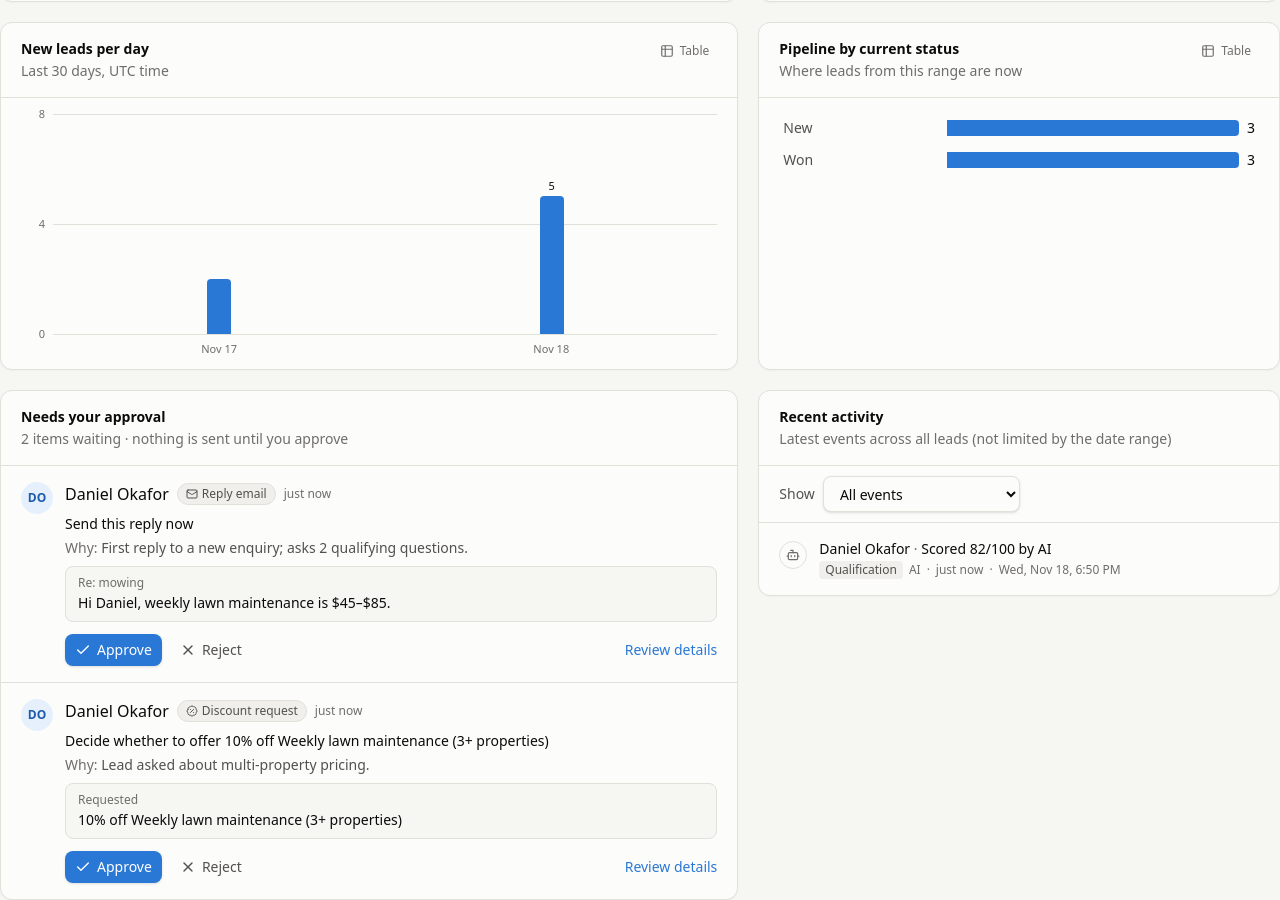
Test: Recent activity › labels each event with its type and filters by category
(page scrolled)
Check: the text "Scored 82/100 by AI" is shown, box top-left (921, 539), bottom-right (1051, 558)
Check: the text "Qualification" is shown, box top-left (819, 561), bottom-right (903, 579)
Select "AI decision events" in the dropdown labelled "Show" at (921, 494), box top-left (823, 476), bottom-right (1020, 512)
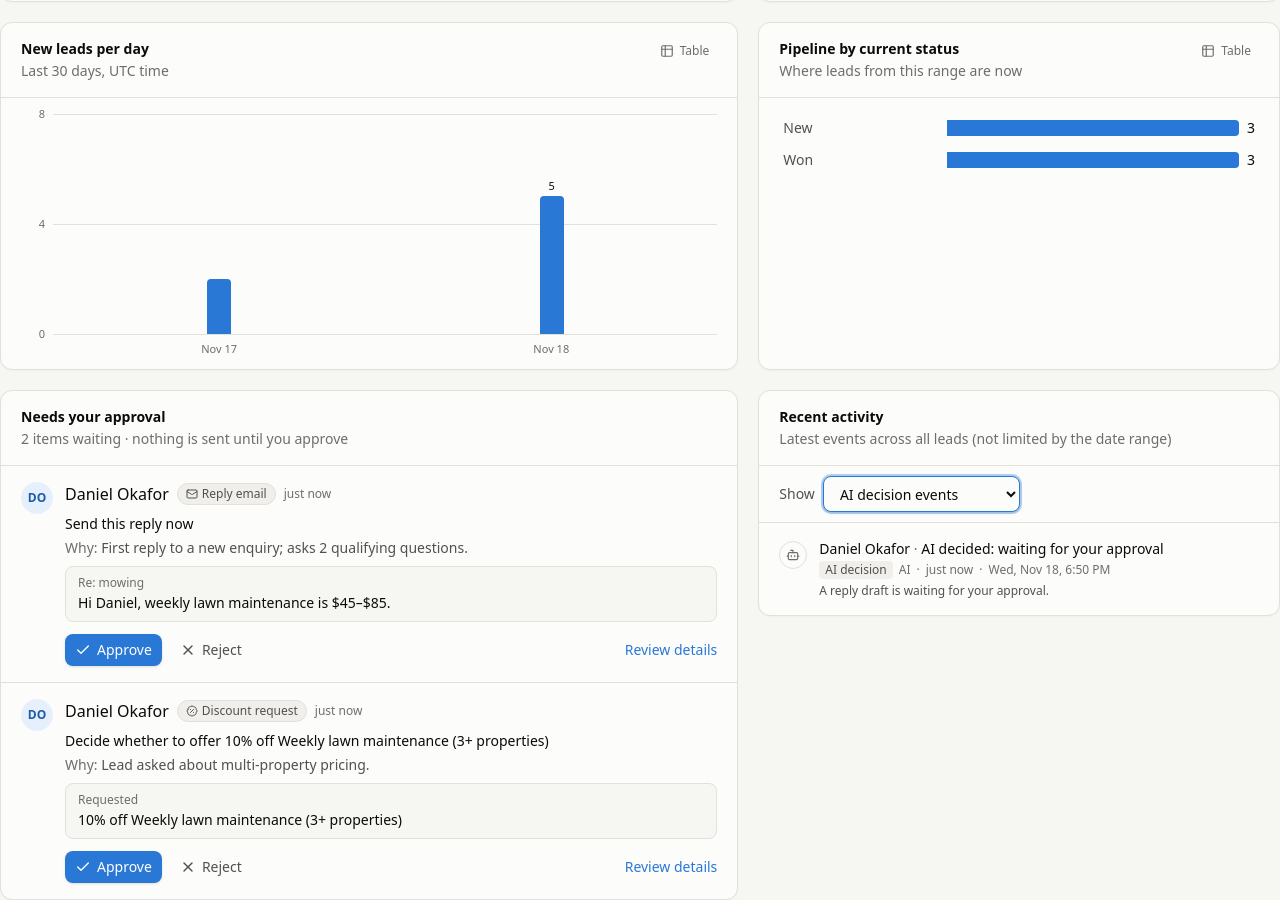
Check: the text "AI decided: waiting for your approval" is shown, box top-left (921, 539), bottom-right (1164, 558)
Check: the text "A reply draft is waiting for your approval." is shown, box top-left (819, 582), bottom-right (1049, 599)
